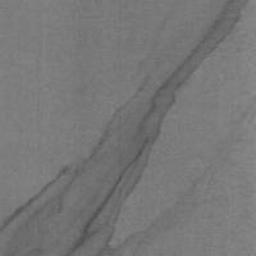Water spot: (0, 0, 248, 256)
